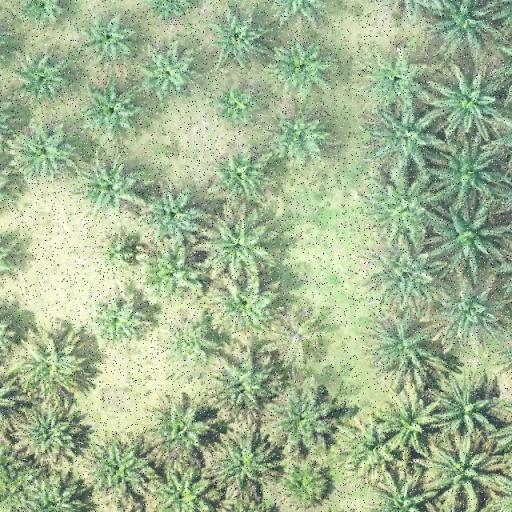Ganoderma: (276, 320, 316, 355)
